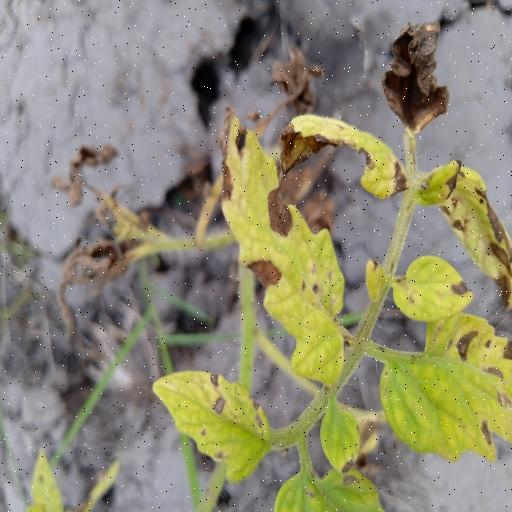Tomato_Brown_Spots: (217, 94, 357, 386), (374, 305, 512, 468), (154, 362, 278, 488), (411, 154, 512, 306), (274, 112, 414, 199)
